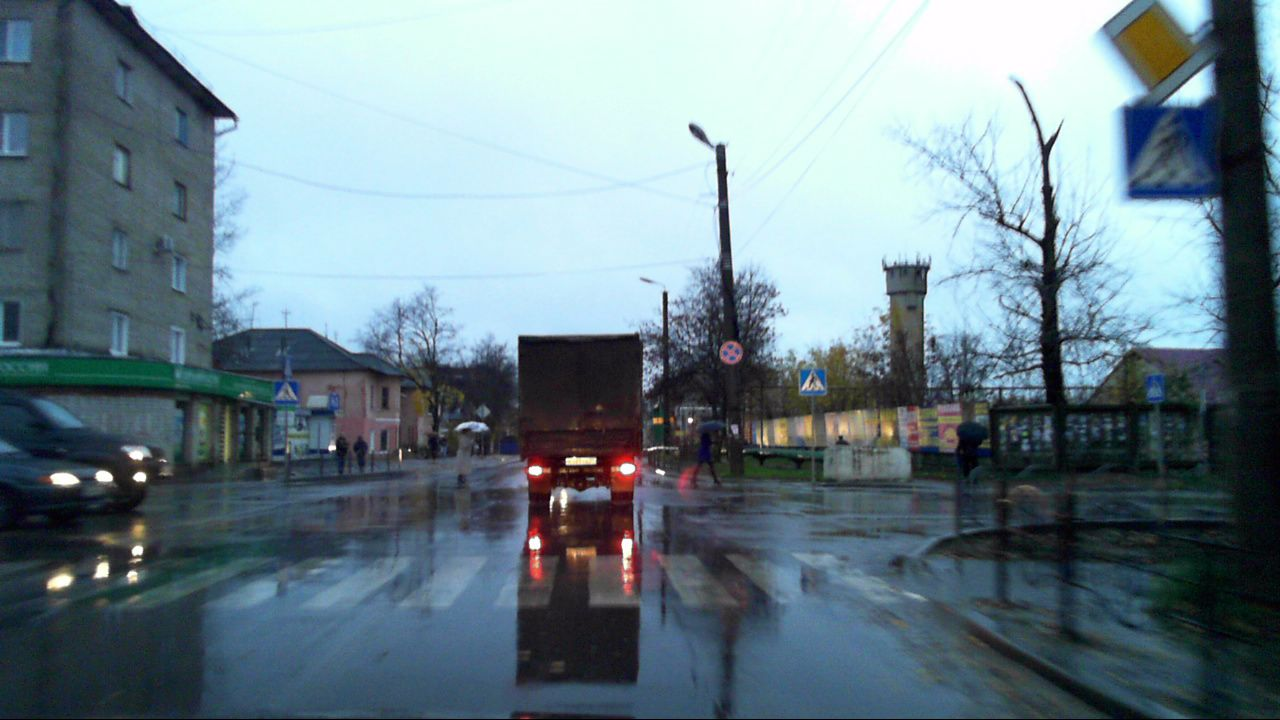No Parking: (718, 340, 743, 364)
